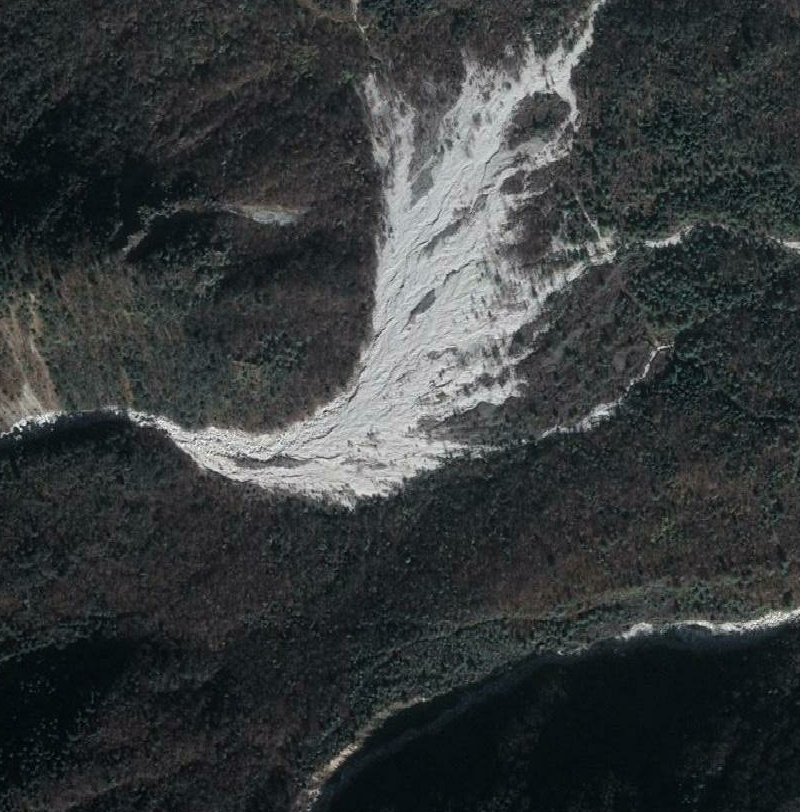slope: (122, 1, 619, 504)
